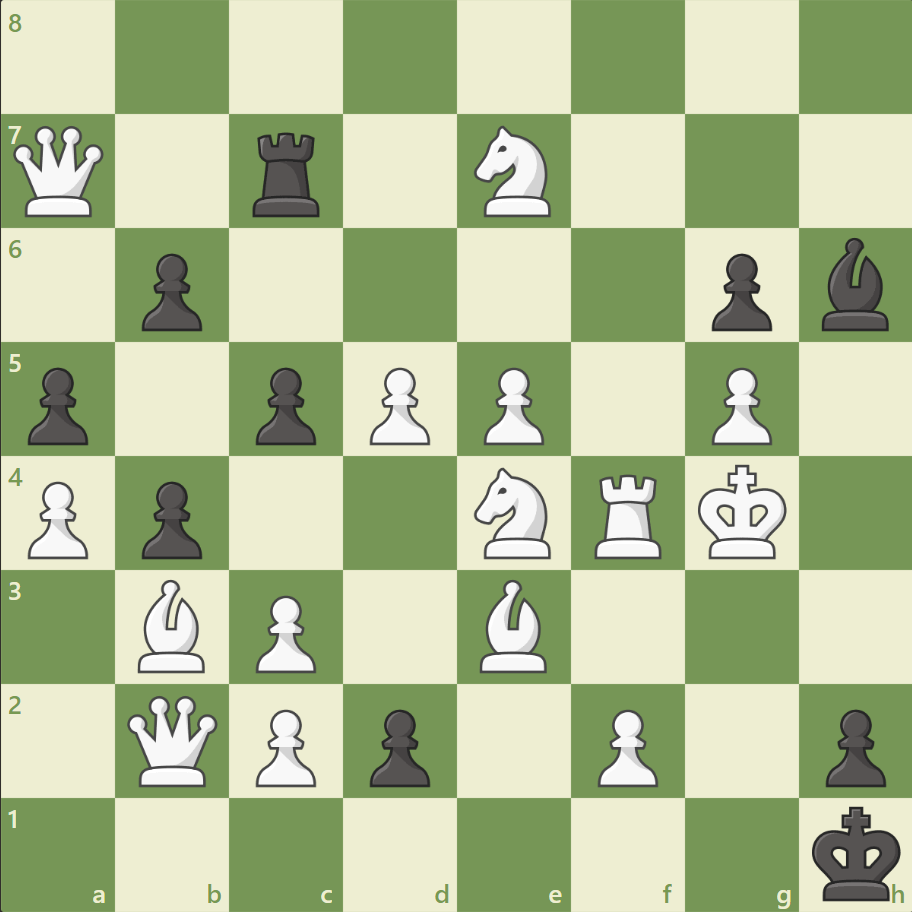B: (131, 574, 215, 676), (471, 574, 555, 676)
K: (692, 458, 792, 566)
N: (465, 461, 562, 564), (465, 121, 562, 223)
P: (474, 359, 549, 450), (701, 359, 776, 450), (20, 473, 95, 564), (247, 586, 322, 677), (247, 700, 322, 791), (361, 359, 435, 450), (588, 700, 662, 791)
Q: (10, 122, 109, 222), (124, 690, 223, 789)
R: (587, 466, 670, 563)
b: (812, 233, 896, 336)
k: (806, 798, 906, 906)
p: (133, 246, 208, 337), (701, 246, 776, 337), (20, 359, 95, 450), (247, 359, 322, 450), (133, 473, 208, 564), (361, 700, 435, 791), (815, 700, 889, 791)
r: (246, 125, 329, 222)
